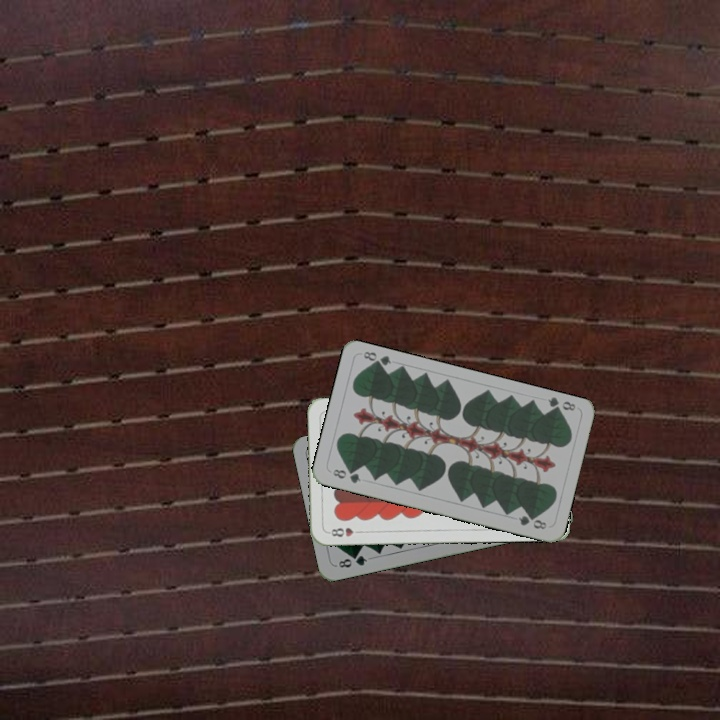G8: (544, 393, 578, 416), (329, 465, 363, 486), (334, 551, 370, 570)
H8: (324, 524, 365, 540)
